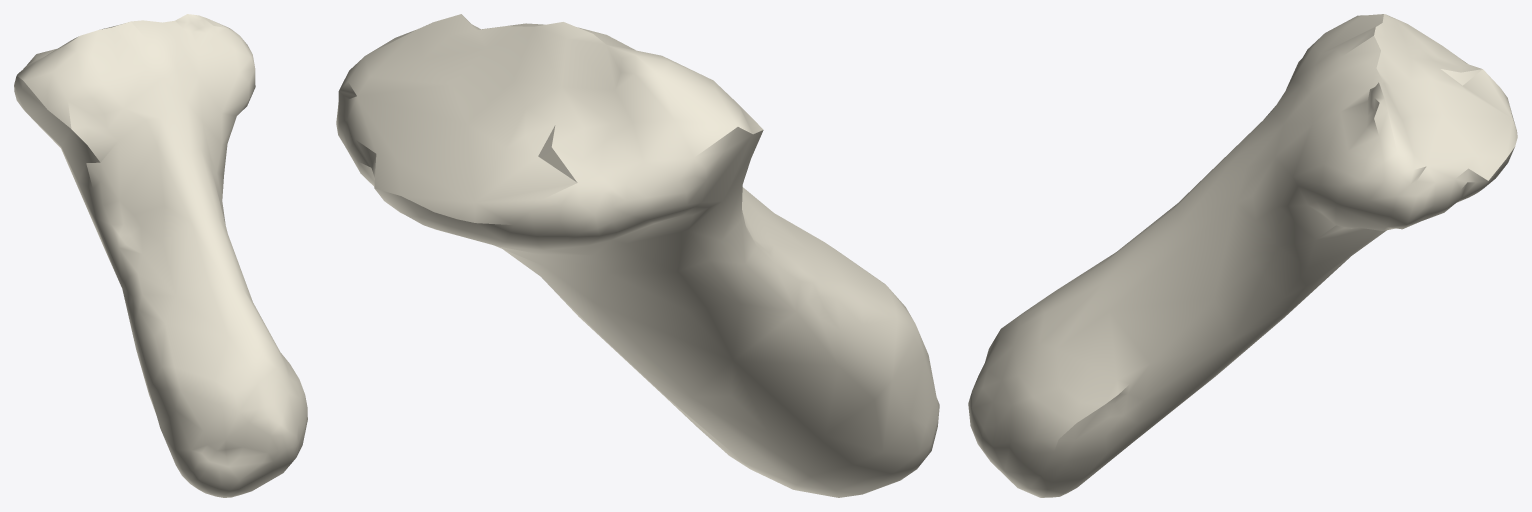
Rendered from fma23959_mm1890m.glb.
3 views of the same model, side by side, from view 1: azimuth 30°, elevation 25°; view 2: azimuth 150°, elevation 25°; view 3: azimuth 270°, elevation 25° (orthographic). The views are drawn at different scales.
Parts seen in each view (by area): view 1: FMA23959_MM1890M; view 2: FMA23959_MM1890M; view 3: FMA23959_MM1890M.
Boxes of the visible parts, bbox=[...] form: FMA23959_MM1890M: bbox=[14, 14, 307, 497]; FMA23959_MM1890M: bbox=[336, 14, 939, 497]; FMA23959_MM1890M: bbox=[968, 14, 1517, 497].
Size of the model in its own units: 0.0083 by 0.0128 by 0.0136.
